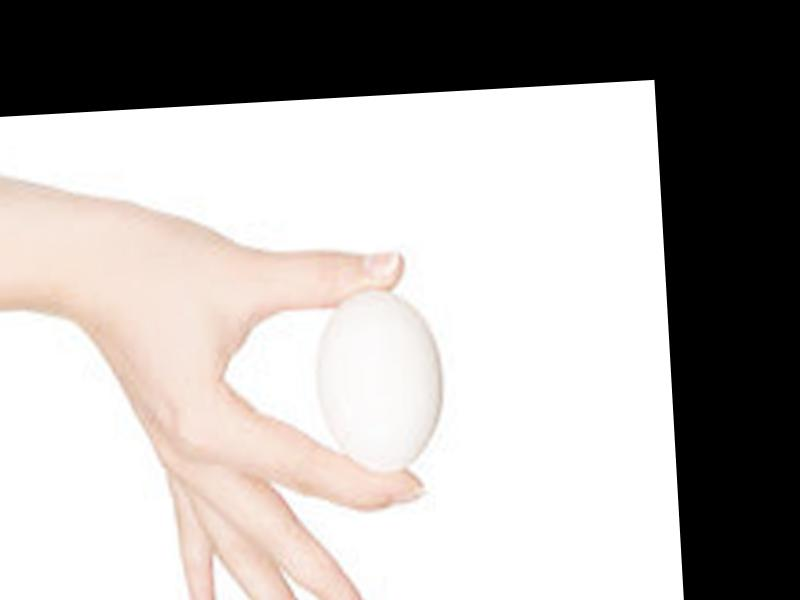Eggs: (311, 286, 450, 477)
